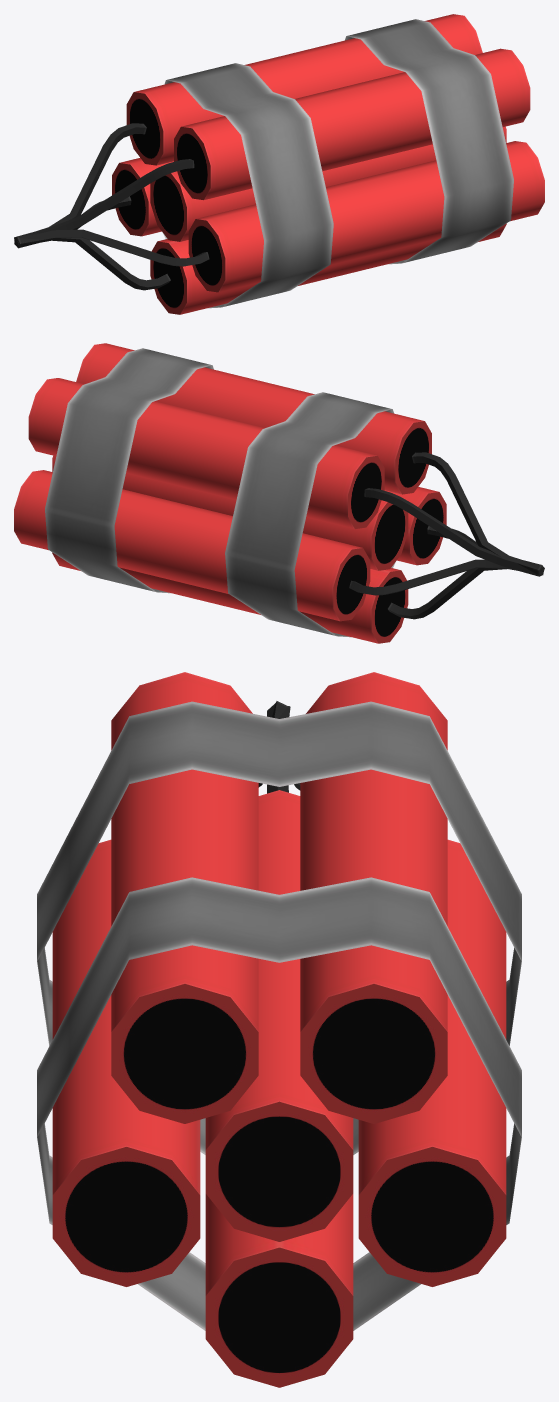
File: static.fbx
The picture shows the model from 3 angles, top to bottom: view 1: azimuth 30°, elevation 25°; view 2: azimuth 150°, elevation 25°; view 3: azimuth 270°, elevation 25°; orthographic projection. The views are drawn at different scales.
Visible parts, largest first — view 1: Extrude, Cylinder_4, Cylinder_5, Cylinder, Cylinder_6, Cylinder_3, Cylinder_2, Sweep_10, Sweep_8, Sweep, Sweep_6; view 2: Extrude, Cylinder_2, Cylinder, Cylinder_5, Cylinder_6, Cylinder_3, Cylinder_4, Sweep, Sweep_10, Sweep_4, Sweep_6; view 3: Extrude, Cylinder_5, Cylinder, Cylinder_2, Cylinder_4, Cylinder_6, Cylinder_3.
Boxes of the visible parts, x1=… form: Extrude: x1=162, y1=19, x2=513, y2=308; Cylinder_4: x1=188, y1=141, x2=544, y2=292; Cylinder_5: x1=174, y1=48, x2=530, y2=200; Cylinder: x1=126, y1=14, x2=482, y2=165; Cylinder_6: x1=150, y1=126, x2=506, y2=241; Cylinder_3: x1=150, y1=223, x2=506, y2=314; Cylinder_2: x1=112, y1=158, x2=173, y2=236; Sweep_10: x1=14, y1=159, x2=194, y2=242; Sweep_8: x1=15, y1=229, x2=209, y2=266; Sweep: x1=14, y1=123, x2=146, y2=247; Sweep_6: x1=16, y1=236, x2=170, y2=290; Extrude: x1=45, y1=348, x2=395, y2=637; Cylinder_2: x1=14, y1=470, x2=370, y2=621; Cylinder: x1=28, y1=378, x2=384, y2=528; Cylinder_5: x1=76, y1=343, x2=431, y2=494; Cylinder_6: x1=52, y1=455, x2=408, y2=570; Cylinder_3: x1=52, y1=552, x2=408, y2=643; Cylinder_4: x1=384, y1=487, x2=446, y2=565; Sweep: x1=364, y1=488, x2=541, y2=576; Sweep_10: x1=412, y1=452, x2=543, y2=575; Sweep_4: x1=349, y1=559, x2=543, y2=595; Sweep_6: x1=388, y1=564, x2=544, y2=619; Extrude: x1=37, y1=701, x2=521, y2=1330; Cylinder_5: x1=111, y1=672, x2=258, y2=1123; Cylinder: x1=300, y1=672, x2=447, y2=1123; Cylinder_2: x1=358, y1=839, x2=506, y2=1286; Cylinder_4: x1=52, y1=839, x2=200, y2=1286; Cylinder_6: x1=205, y1=790, x2=353, y2=1241; Cylinder_3: x1=205, y1=1194, x2=353, y2=1387.
Size of the model in its own units: 111 by 46.97 by 49.56.
Materials: 4 (4 with a texture image).
